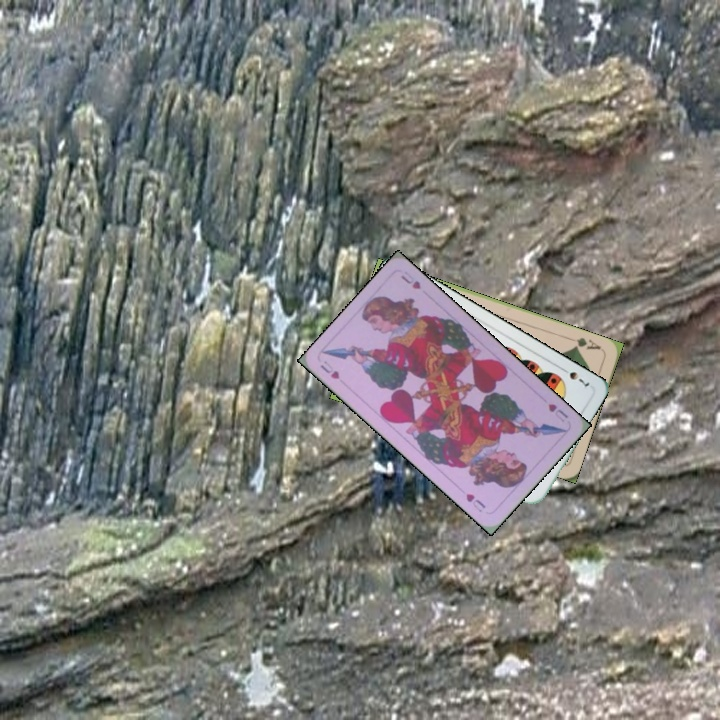GA: (565, 333, 605, 354)
HU: (544, 399, 571, 425), (316, 356, 342, 382)
S7: (556, 363, 592, 391)
